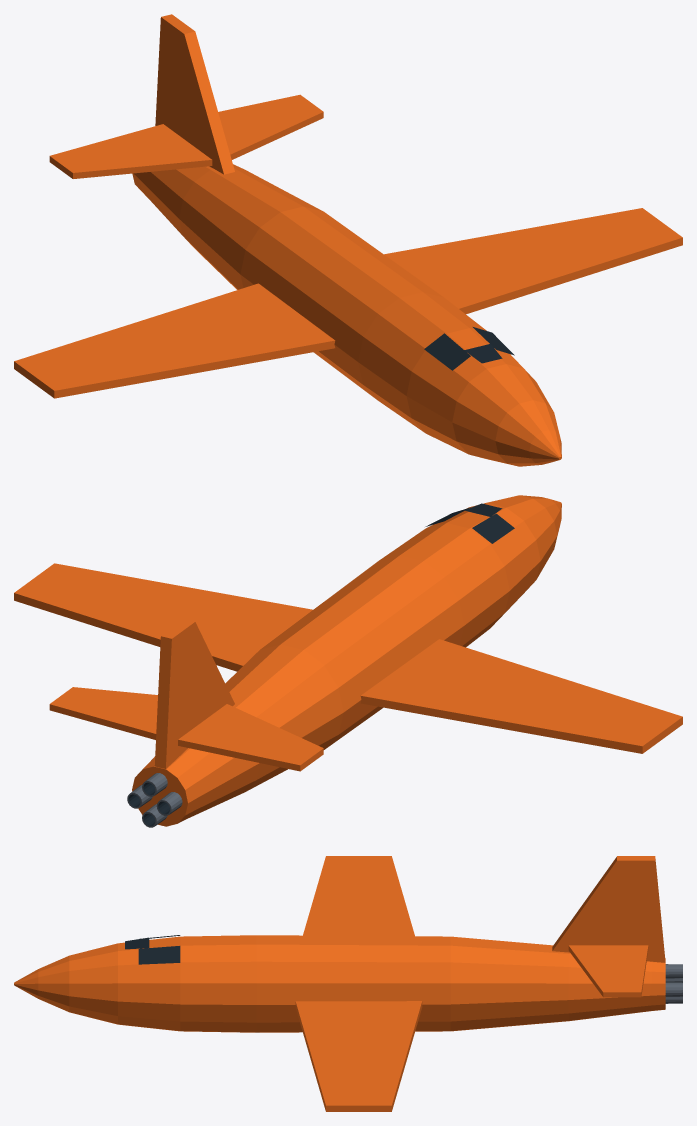
The picture shows the model from 3 angles, top to bottom: view 1: azimuth 30°, elevation 25°; view 2: azimuth 150°, elevation 25°; view 3: azimuth 270°, elevation 25°; orthographic projection. The views are drawn at different scales.
Parts seen in each view (by area): view 1: x1 body; view 2: x1 body; view 3: x1 body.
Boxes of the visible parts, box(x1,y1,x2,y2) form: x1 body: box(14, 14, 682, 466); x1 body: box(14, 495, 682, 827); x1 body: box(14, 856, 682, 1111).
Bounding box in the file's own units: 8.52 × 2.7 × 9.65.
